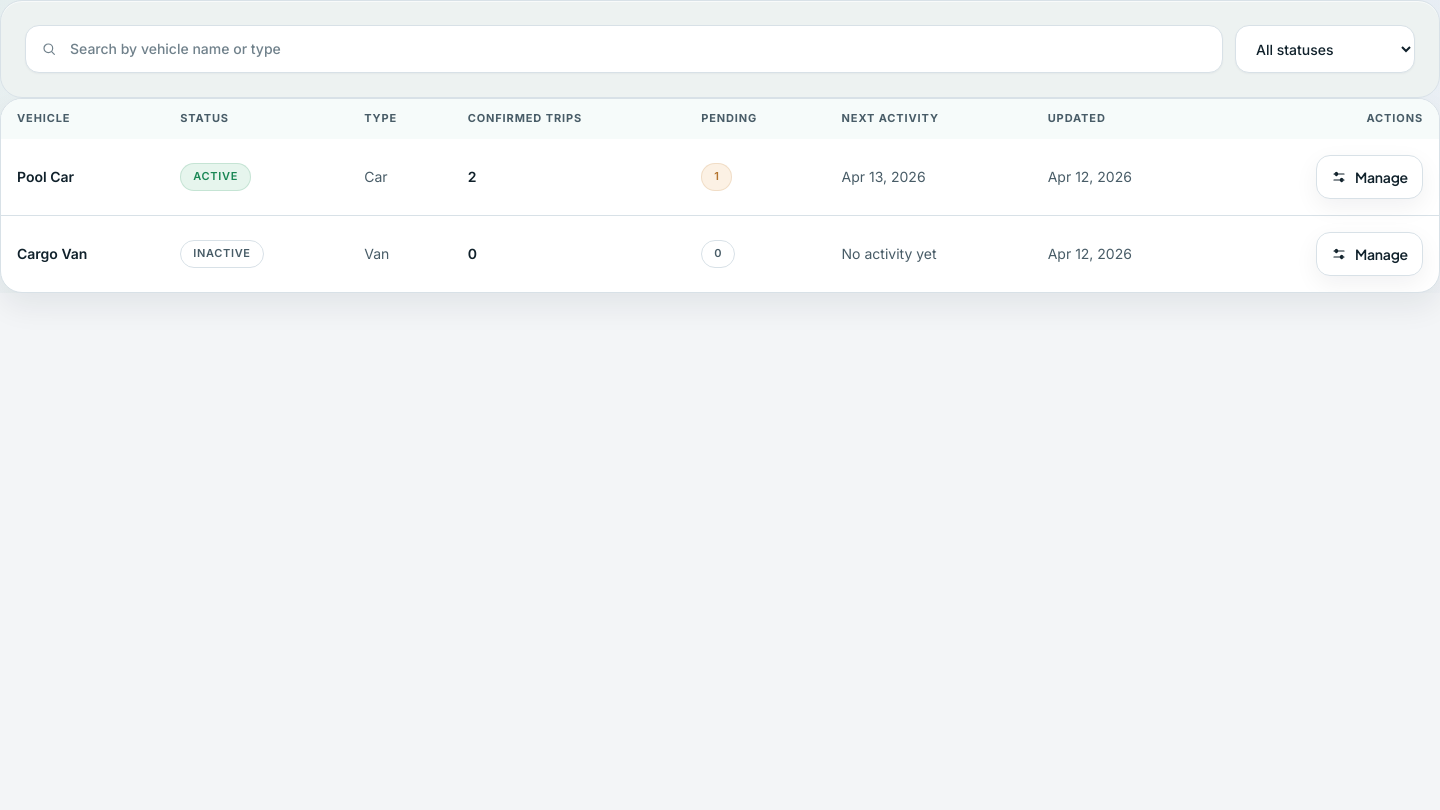
Scenario: VehicleManagerList › opens management controls for a selected vehicle
The image size is (1440, 810).
Click the button "Manage" in the row of "Pool Car".
click(1369, 177)  # box x1=1316 y1=155 x2=1423 y2=199
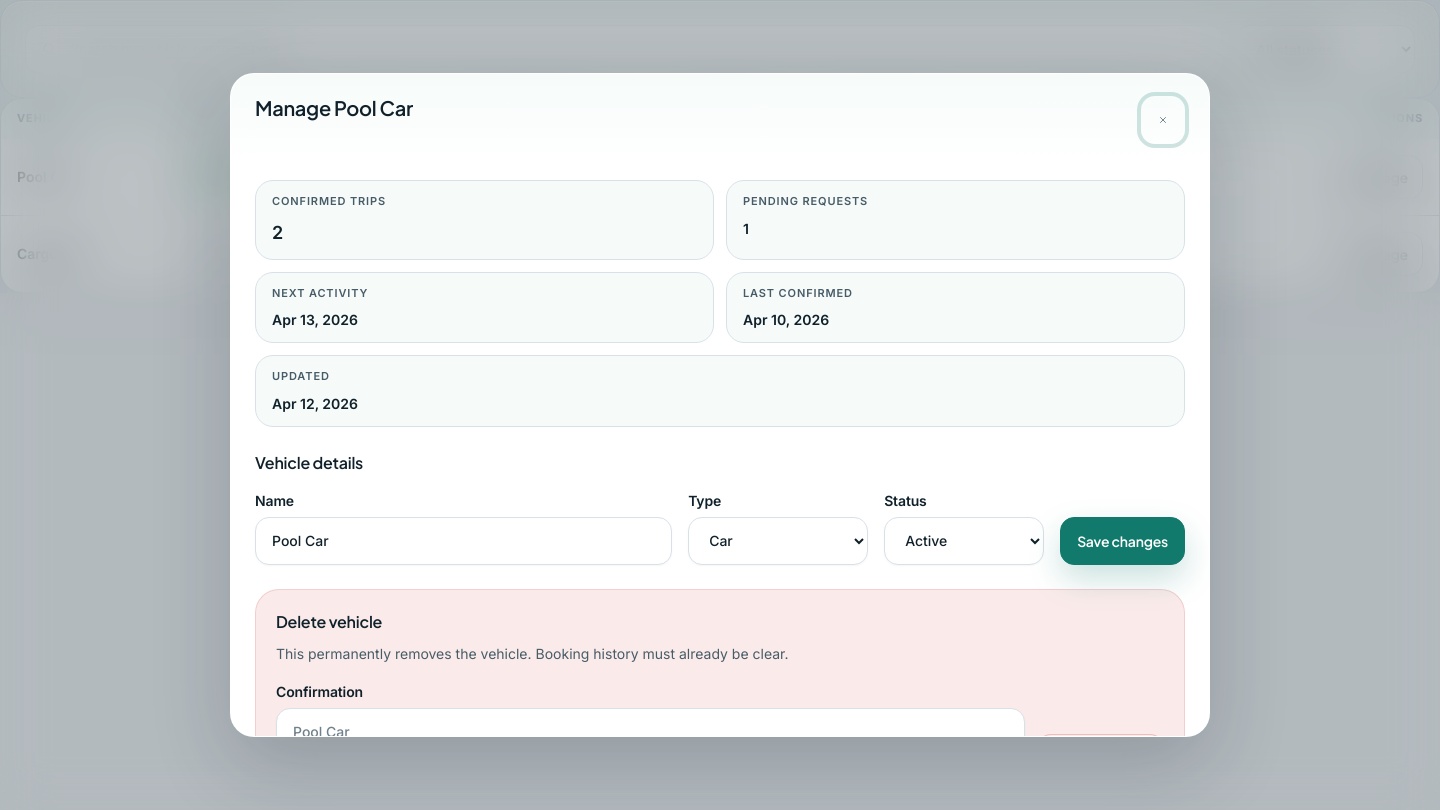
expect the dialog "Manage Pool Car" is shown: met, box x1=230 y1=73 x2=1210 y2=737
expect the button "Save changes" is shown: met, box x1=1060 y1=517 x2=1185 y2=565
